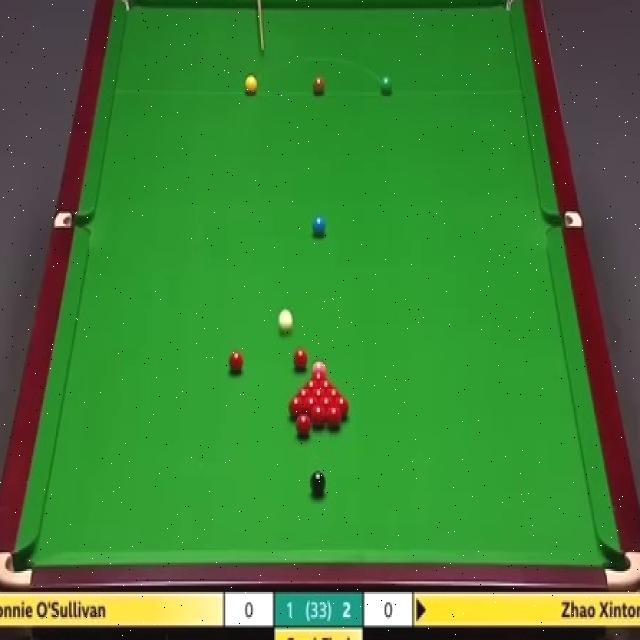black-ball: (310, 470, 326, 497)
blue-ball: (312, 216, 326, 234)
brown-ball: (312, 78, 326, 94)
green-ball: (379, 73, 394, 98)
pink-ball: (311, 361, 328, 378)
red-ball: (328, 404, 342, 434), (293, 348, 309, 374), (289, 394, 304, 420), (333, 398, 350, 418), (230, 350, 243, 376), (311, 405, 326, 427), (296, 416, 310, 437), (319, 376, 333, 394), (305, 398, 318, 417), (295, 386, 310, 402), (312, 388, 328, 403), (305, 377, 318, 393), (320, 398, 334, 411), (328, 388, 342, 399)
white-ball: (277, 308, 294, 334)
yellow-ball: (244, 74, 258, 96)
